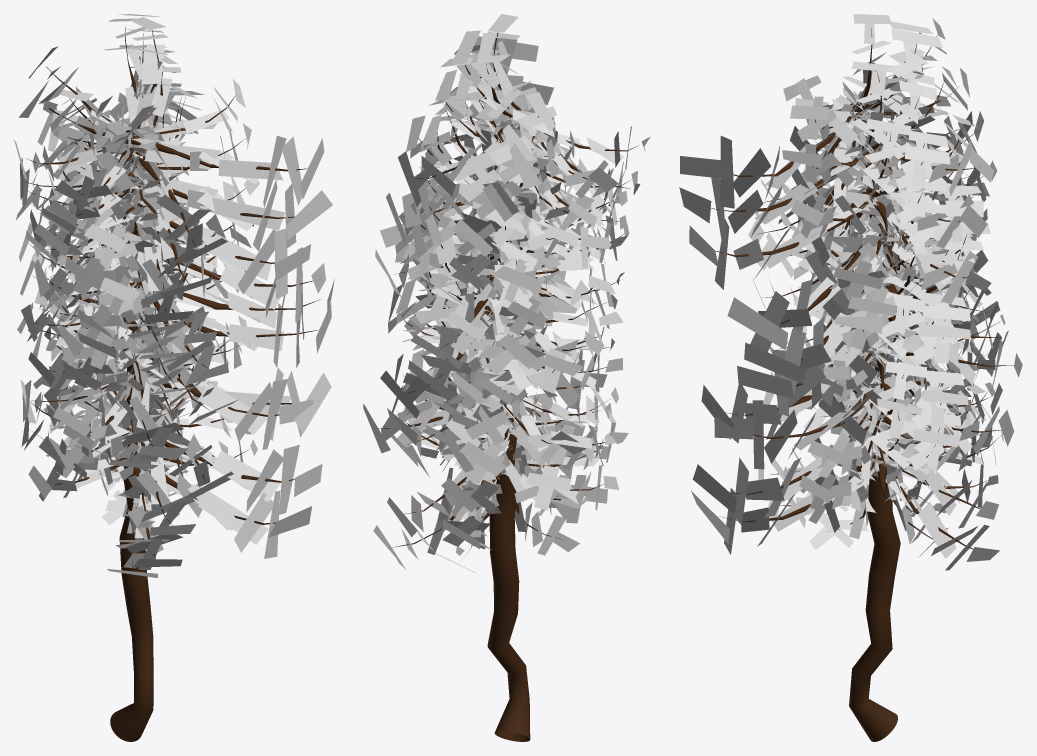
The model's file is koks03_test.fbx.
3 views of the same model, side by side, from view 1: azimuth 30°, elevation 25°; view 2: azimuth 150°, elevation 25°; view 3: azimuth 270°, elevation 25° (orthographic).
Visible parts, largest first — view 1: Koks3; view 2: Koks3; view 3: Koks3.
Boxes of the visible parts, box(x1,y1,x2,y2) form: Koks3: box(14, 14, 334, 741); Koks3: box(363, 14, 650, 741); Koks3: box(679, 14, 1022, 741).
Size of the model in its own units: 12.4 by 30.68 by 13.11.
